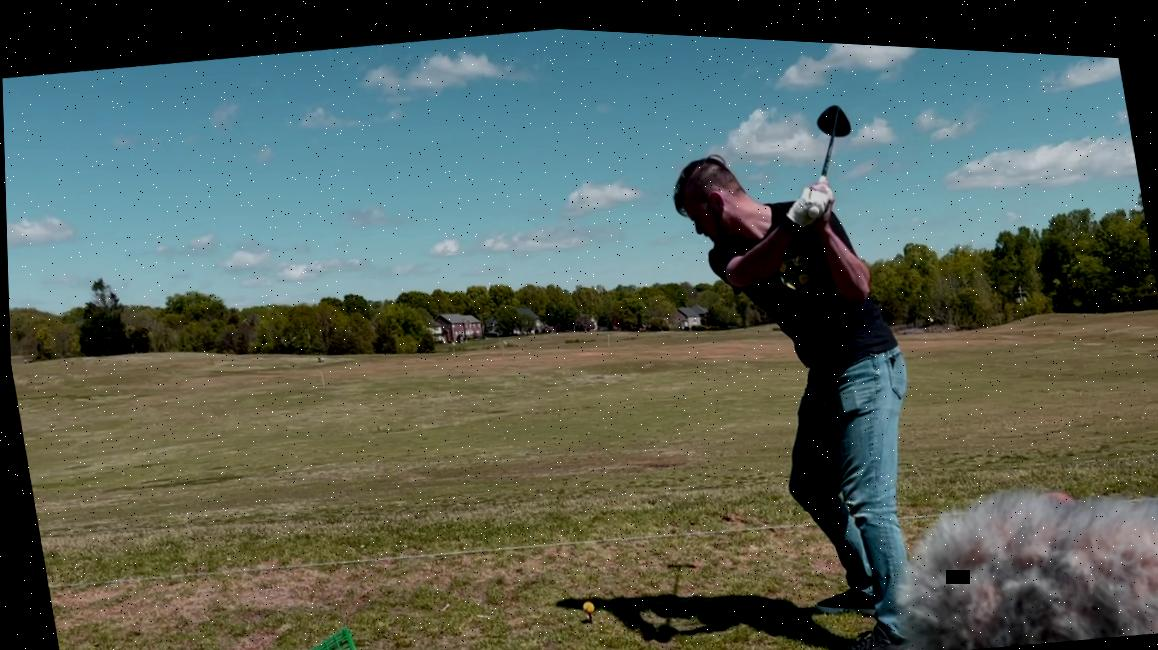ClubHead: (810, 88, 859, 146)
GolfBall: (576, 591, 594, 611)
